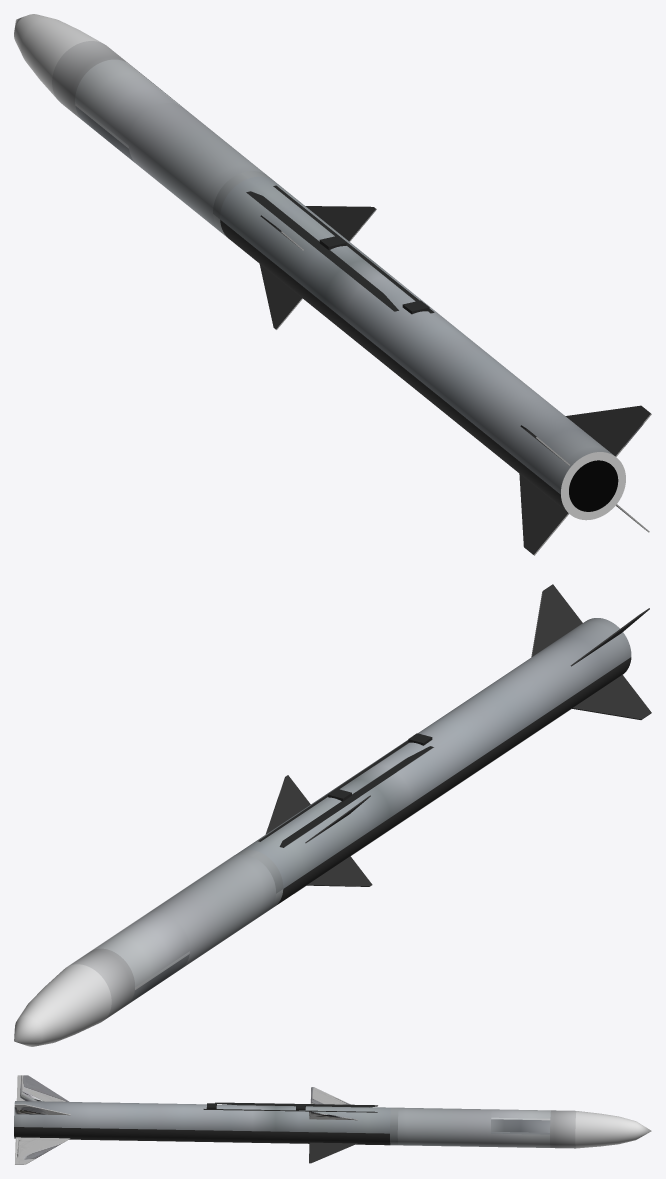
File: msl_aim120.glb
The picture shows the model from 3 angles, top to bottom: view 1: azimuth 30°, elevation 25°; view 2: azimuth 150°, elevation 25°; view 3: azimuth 270°, elevation 25°; orthographic projection. The views are drawn at different scales.
Parts seen in each view (by area): view 1: body|Fa18_R, body|Material.003, body|Darker_paint, body|darkenss, body|white_mat; view 2: body|Fa18_R, body|Material.003, body|Darker_paint; view 3: body|Fa18_R, body|Material.003, body|F15_R, body|Darker_paint.
Boxes of the visible parts, x1=… form: body|Fa18_R: x1=14, y1=14, x2=613, y2=494; body|Material.003: x1=220, y1=206, x2=650, y2=554; body|Darker_paint: x1=246, y1=185, x2=434, y2=314; body|darkenss: x1=569, y1=460, x2=618, y2=511; body|white_mat: x1=561, y1=452, x2=625, y2=520; body|Fa18_R: x1=14, y1=618, x2=631, y2=1046; body|Material.003: x1=266, y1=584, x2=651, y2=905; body|Darker_paint: x1=258, y1=733, x2=433, y2=847; body|Fa18_R: x1=14, y1=1101, x2=651, y2=1148; body|Material.003: x1=14, y1=1111, x2=390, y2=1164; body|F15_R: x1=14, y1=1075, x2=357, y2=1164; body|Darker_paint: x1=203, y1=1102, x2=377, y2=1112.
Bounding box in the file's own units: 0.4595 × 0.4141 × 3.86.
Materials: 6 (2 with a texture image).
